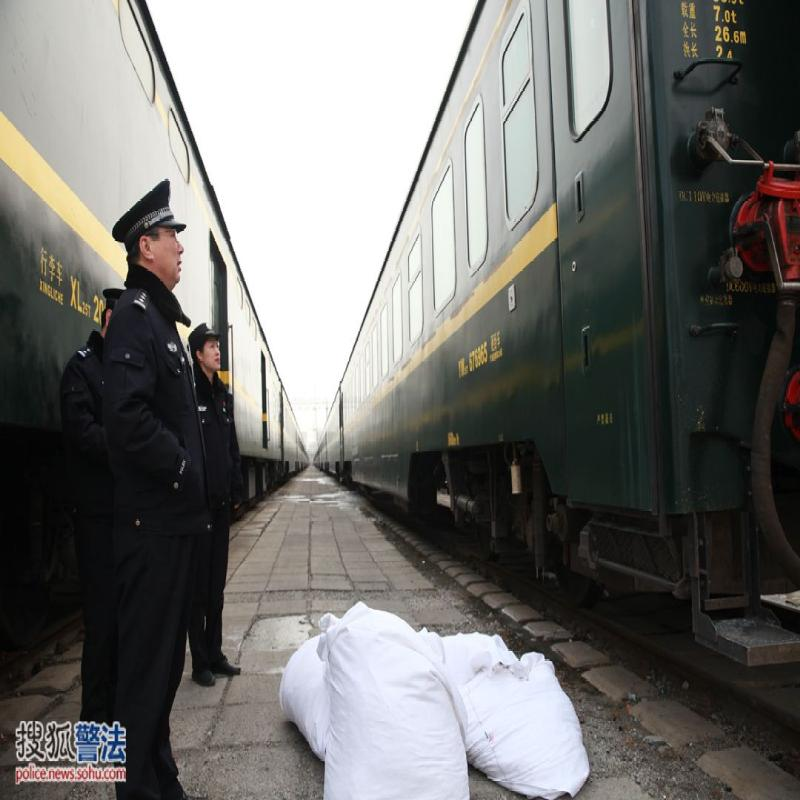train: (367, 236, 716, 646)
